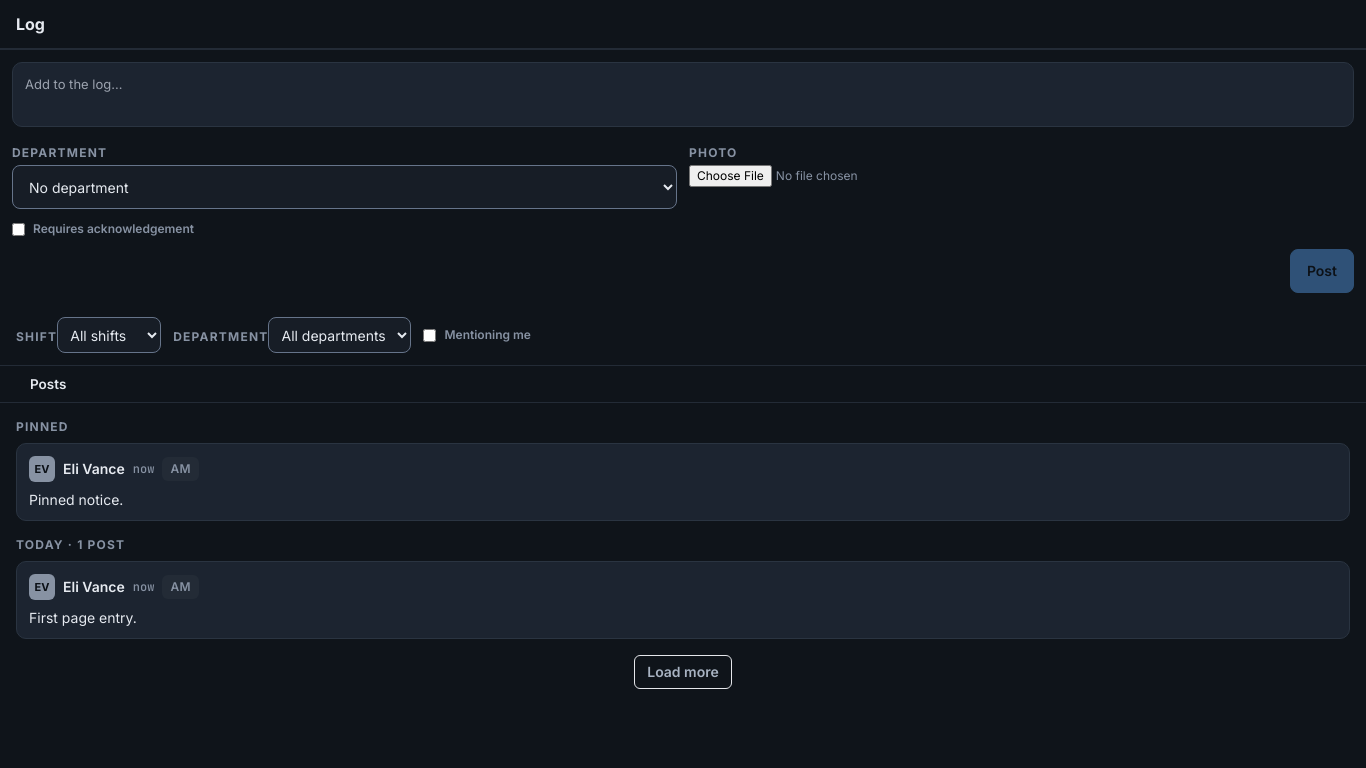
it: LogPage › pagination › loads older entries and keeps both pages, newest first
Expected: the text "First page entry." is shown, [29,609,137,626]
Expected: the text "Second page entry." is not shown
Click the button "Load more" at coordinates (683, 672), box [634,655,732,689]
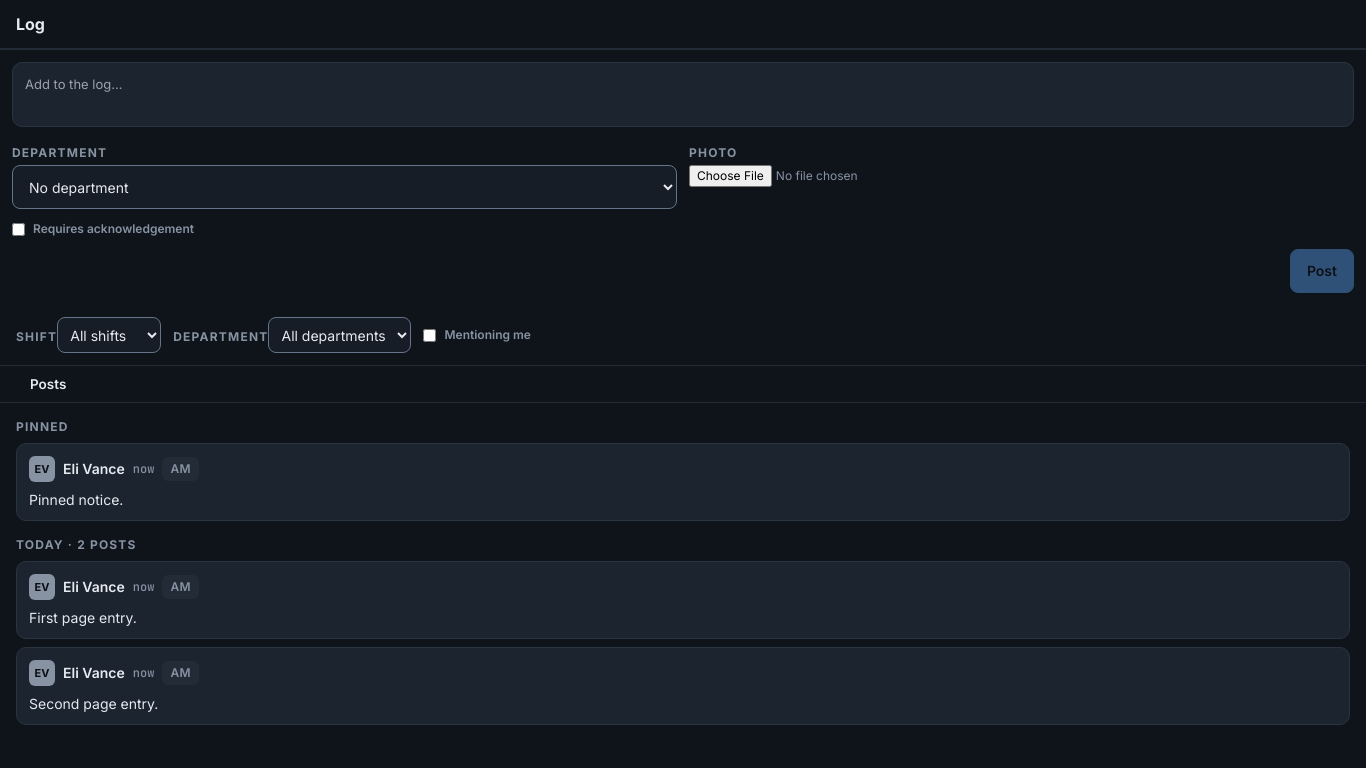
Expected: the text "First page entry." is shown, [29,609,137,626]
Now the text "Second page entry." is shown, box [29,695,158,712]
